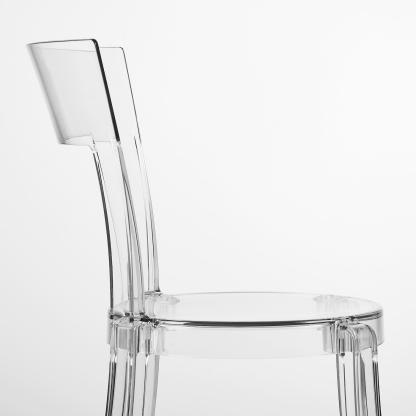chair: (30, 15, 399, 415)
